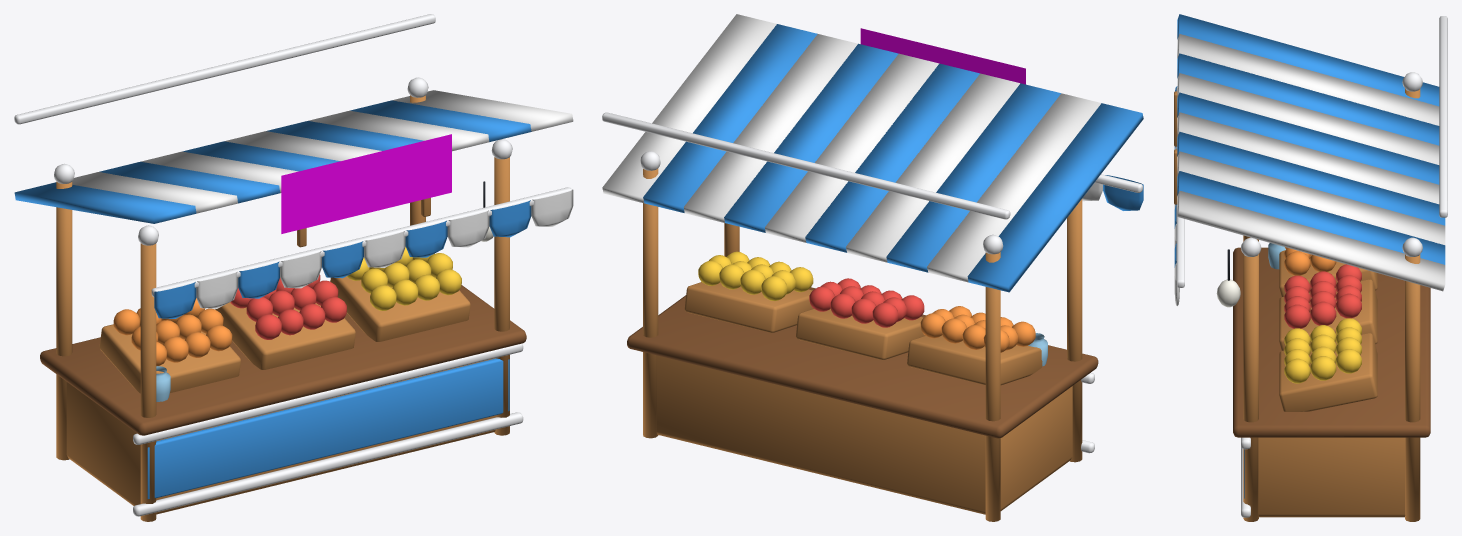
The model's file is stall_hats.glb.
3 views of the same model, side by side, from view 1: azimuth 30°, elevation 25°; view 2: azimuth 150°, elevation 25°; view 3: azimuth 270°, elevation 25° (orthographic). The views are drawn at different scales.
Parts seen in each view (by area): view 1: stall_hats; view 2: stall_hats; view 3: stall_hats.
Boxes of the visible parts, x1,y1,x2,y2 form: stall_hats: (14,14,573,521); stall_hats: (602,14,1143,521); stall_hats: (1174,14,1447,521).
Size of the model in its own units: 2.7 by 2.16 by 1.6.
